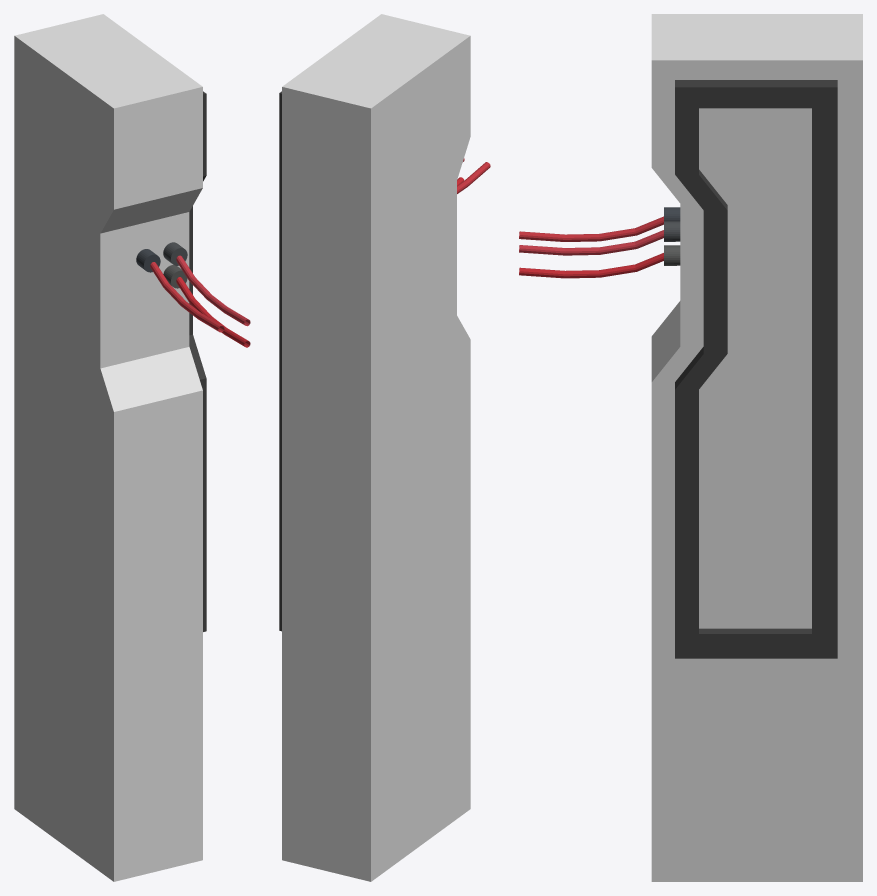
Rendered from Cupboard.fbx.
3 views of the same model, side by side, from view 1: azimuth 30°, elevation 25°; view 2: azimuth 150°, elevation 25°; view 3: azimuth 270°, elevation 25° (orthographic). The views are drawn at different scales.
Parts seen in each view (by area): view 1: Куб.069, Куб.055, Vert.161, Vert.160, Vert.156; view 2: Куб.069, Куб.055; view 3: Куб.069, Куб.062, Куб.055, Vert.156, Vert.161, Vert.160.
Boxes of the visible parts, x1=… form: Куб.069: x1=14, y1=14, x2=202, y2=881; Куб.055: x1=189, y1=91, x2=206, y2=631; Vert.161: x1=176, y1=255, x2=250, y2=326; Vert.160: x1=150, y1=262, x2=224, y2=332; Vert.156: x1=176, y1=277, x2=250, y2=347; Куб.069: x1=282, y1=14, x2=470, y2=881; Куб.055: x1=279, y1=91, x2=281, y2=631; Куб.069: x1=651, y1=14, x2=862, y2=881; Куб.062: x1=699, y1=108, x2=811, y2=628; Куб.055: x1=675, y1=80, x2=837, y2=658; Vert.156: x1=519, y1=253, x2=663, y2=278; Vert.161: x1=519, y1=230, x2=663, y2=255; Vert.160: x1=519, y1=216, x2=663, y2=241.
Size of the model in its own units: 233 by 1660 by 629.
